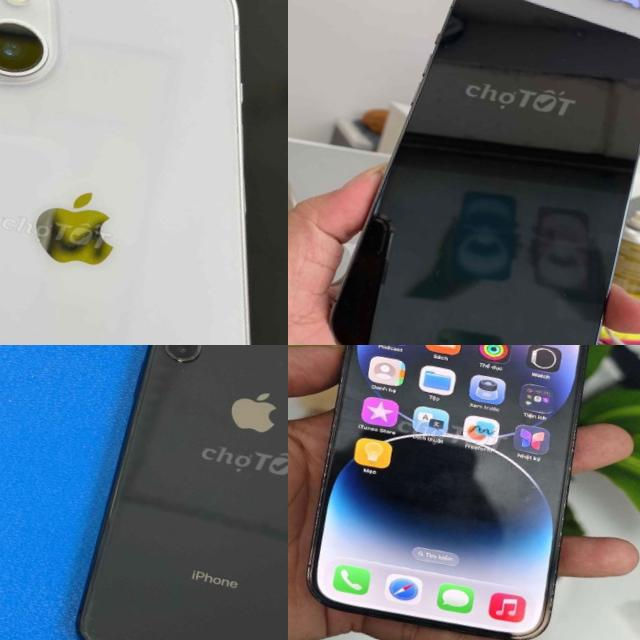gen_14: (317, 0, 640, 345), (288, 345, 627, 640), (0, 0, 288, 345)
gen_x_xs: (71, 345, 288, 640)
scratch: (288, 345, 373, 586), (527, 408, 596, 628), (162, 360, 200, 382), (155, 376, 185, 394), (81, 630, 109, 640)
